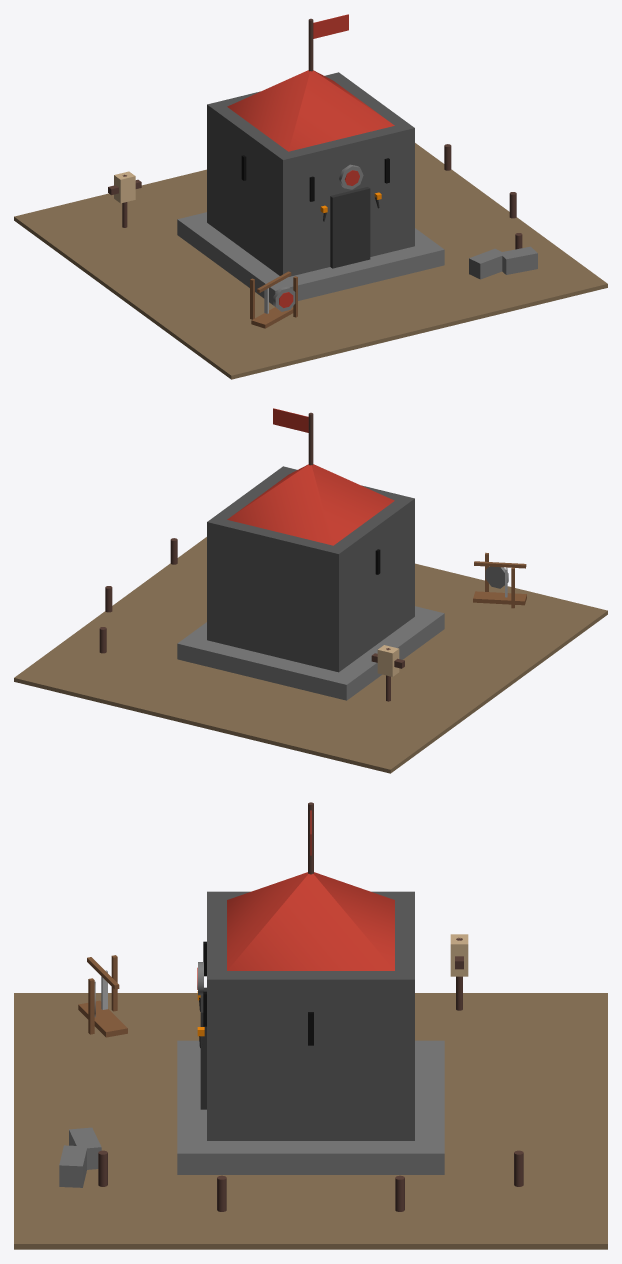
The model's file is guard_hut.glb.
3 renders of one model, top to bottom at view 1: azimuth 30°, elevation 25°; view 2: azimuth 150°, elevation 25°; view 3: azimuth 270°, elevation 25°, orthographic. The views are drawn at different scales.
Visible parts, largest first — view 1: Ground, MainStructure, RoofCap, Foundation, Door, Barrier (×2), Pennant, DummyBody; view 2: Ground, MainStructure, Foundation, RoofCap, DummyBody, Pennant, RackBase; view 3: Ground, MainStructure, Foundation, RoofCap, Barrier (×2), RackBase, DummyBody, Door.
Part boxes in pixels (x1,y1,x2,y2): Ground: (14,143,607,379); MainStructure: (207,72,414,276); RoofCap: (227,70,394,151); Foundation: (177,212,444,304); Door: (330,187,370,268); Barrier (×2): (469,246,537,279); Pennant: (313,14,348,38); DummyBody: (114,171,135,203); Ground: (14,537,607,773); MainStructure: (207,466,414,672); Foundation: (177,606,444,700); RoofCap: (227,464,394,545); DummyBody: (377,645,399,676); Pennant: (273,408,308,432); RackBase: (473,591,526,605); Ground: (14,993,607,1249); MainStructure: (207,891,414,1140); Foundation: (177,1040,444,1174); RoofCap: (227,872,394,970); Barrier (×2): (59,1127,101,1187); RackBase: (78,1000,127,1037); DummyBody: (450,934,468,976); Door: (200,987,206,1109).
Bounding box in the file's own units: 10 × 5.95 × 10.
